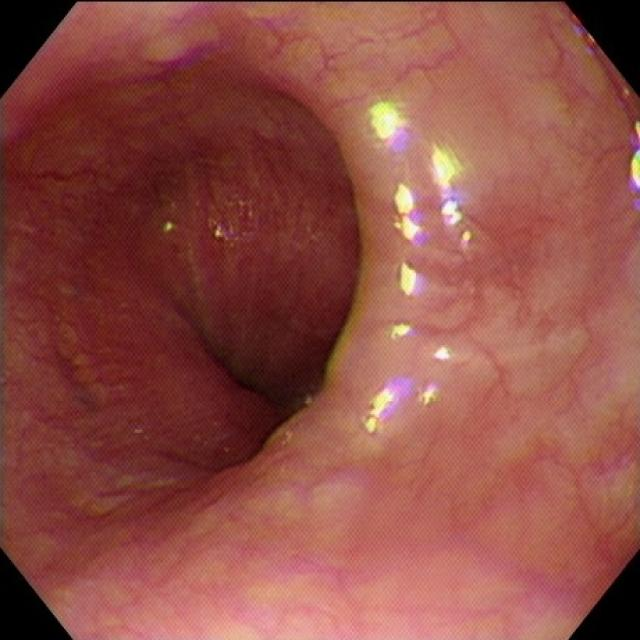I: (83, 147, 350, 465)
U: (432, 147, 473, 255), (363, 378, 417, 436), (370, 105, 414, 157), (395, 183, 427, 252), (630, 122, 639, 228), (399, 263, 424, 301), (417, 384, 441, 409), (391, 323, 420, 343), (434, 343, 453, 365)
